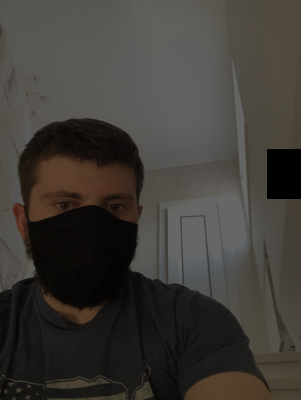with_mask: (27, 177, 140, 311)
